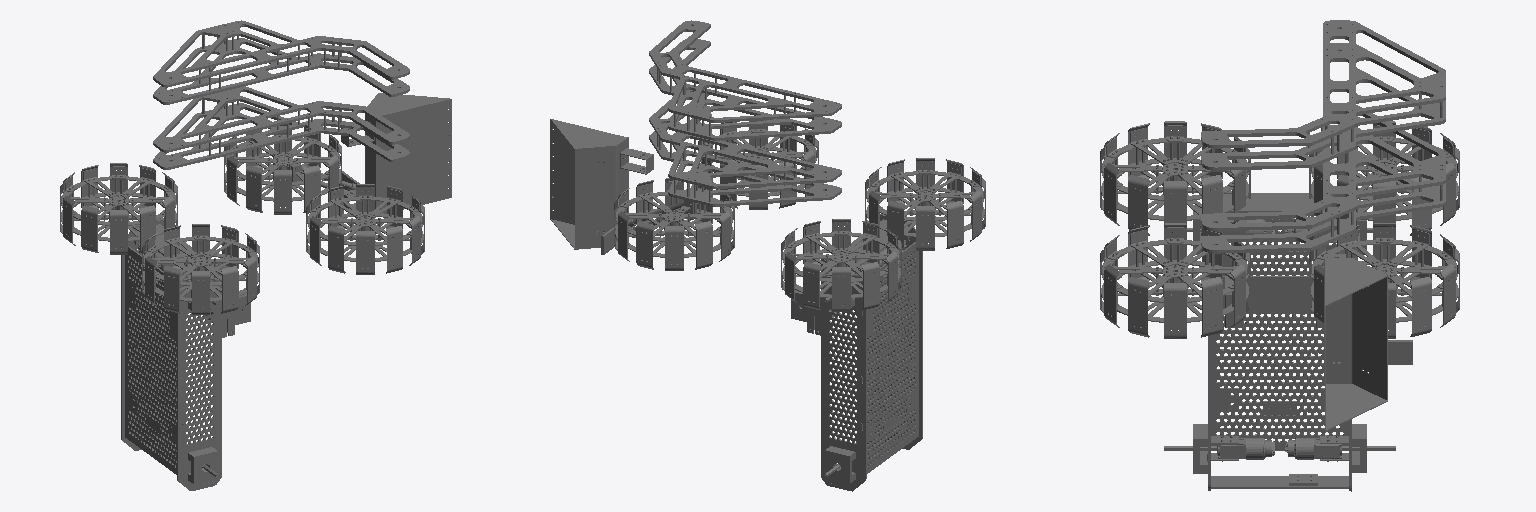
The robot description file, URDF, robot "sierra":
<?xml version="1.0"?>
<robot name="sierra" xmlns:xacro="http://www.ros.org/wiki/xacro">
<link name="base_footprint"/>

<joint name="base_footprint_joint" type="fixed">
  <parent link="base_footprint"/>
  <child link="base_link"/>
  <origin xyz="0 0 0.117037" rpy="0 0 0"/>
</joint>

  <link name="base_link">
  <inertial>
    <origin xyz="0 0 0" rpy="0 0 0"/>
    <mass value="6.66092"/>
    <inertia ixx="0.0559661" ixy="0" ixz="0" iyy="0.0621717" iyz="0" izz="0.104809"/>
  </inertial>
</link>

<link name="base_visual">
  <visual>
    <origin xyz="0 0 0" rpy="-1.5708 0 -1.5708"/>
    <geometry>
      <mesh filename="SierraFrame.STL" scale="1 1 1"/>
    </geometry>
    <material name="grey">
      <color rgba="0.5 0.5 0.5 1.0"/>
    </material>
  </visual>
  <collision>
    <origin xyz="0 0 0" rpy="-1.5708 0 -1.5708"/>
    <geometry>
      <mesh filename="SierraFrame.STL" scale="1 1 1"/>
    </geometry>
  </collision>
</link>

<joint name="base_visual_joint" type="fixed">
  <parent link="base_link"/>
  <child link="base_visual"/>
  <origin xyz="0 0 0" rpy="0 0 0"/>
</joint>

  <link name="Arm">
    <inertial>
      <origin xyz="0 0 0" rpy="0 0 0"/>
      <mass value="0.949651"/>
      <inertia ixx="0.00497965" ixy="0" ixz="0" iyy="0.0120414" iyz="0" izz="0.0123301"/>
    </inertial>
    <visual>
      <origin xyz="0 0 0" rpy="-1.5708 0 0"/>
      <geometry>
        <mesh filename="SierraArm.STL" scale="1 1 1"/>
      </geometry>
      <material name="grey">
        <color rgba="0.5 0.5 0.5 1.0"/>
      </material>
    </visual>
    <collision>
      <origin xyz="0 0 0" rpy="-1.5708 0 0"/>
      <geometry>
        <mesh filename="SierraArm.STL" scale="1 1 1"/>
      </geometry>
    </collision>
  </link>

  <joint name="Arm_Joint" type="revolute">
    <parent link="base_link"/>
    <child link="Arm"/>
    <origin xyz="0.180193 -0.033254 0.283140" rpy="0 0 0"/>
    <axis xyz="0 1 0"/>
    <limit lower="-0.7" upper="0.3" effort="120" velocity="1.5"/>
    <dynamics damping="2.0" friction="0.2"/>
  </joint>

  <link name="Bucket">
    <inertial>
      <origin xyz="0 0 0" rpy="0 0 0"/>
      <mass value="1.36392"/>
      <inertia ixx="0.0214664" ixy="0" ixz="0" iyy="0.0251992" iyz="0" izz="0.00731207"/>
    </inertial>
    <visual>
      <origin xyz="-0.02 0 -0.02" rpy="-1.5708 0 0"/>
      <geometry>
        <mesh filename="SierraBucket.STL" scale="1 1 1"/>
      </geometry>
      <material name="grey">
        <color rgba="0.5 0.5 0.5 1.0"/>
      </material>
    </visual>
    <collision>
      <origin xyz="0 0 0" rpy="-1.5708 0 0"/>
      <geometry>
        <box size="0.40 0.30 0.18"/>
      </geometry>
    </collision>
  </link>

  <joint name="Bucket_Joint" type="revolute">
    <parent link="Arm"/>
    <child link="Bucket"/>
    <origin xyz="0.741492 -0.00775 -0.320993" rpy="0 0 0"/>
    <axis xyz="0 1 0"/>
    <limit lower="-0.45" upper="1.25" effort="80" velocity="2.0"/>
    <dynamics damping="1.5" friction="0.15"/>
  </joint>

  <link name="FL_Wheel">
    <inertial>
      <mass value="1.5"/>
      <inertia ixx="0.01" ixy="0" ixz="0" iyy="0.01" iyz="0" izz="0.02"/>
    </inertial>
    <visual>
      <origin xyz="0 0 0" rpy="-1.5708 0 0"/>
      <geometry>
        <mesh filename="SierraWheel.STL" scale="1 1 1"/>
      </geometry>
      <material name="grey">
        <color rgba="0.5 0.5 0.5 1.0"/>
      </material>
    </visual>
    <collision>
      <geometry>
        <cylinder radius="0.210439" length="0.1"/>
      </geometry>
    </collision>
  </link>

  <joint name="FL_Wheel_Joint" type="continuous">
    <parent link="base_link"/>
    <child link="FL_Wheel"/>
    <origin xyz="0.703615 0.090463 0.089338" rpy="0 0 0"/>
    <axis xyz="0 0 -1"/>
    <limit effort="2000" velocity="20"/>
    <dynamics damping="1.0" friction="1.0"/>
  </joint>

  <link name="FR_Wheel">
    <inertial>
      <mass value="1.5"/>
      <inertia ixx="0.01" ixy="0" ixz="0" iyy="0.01" iyz="0" izz="0.02"/>
    </inertial>
    <visual>
      <origin xyz="0 0 0" rpy="1.5708 0 0"/>
      <geometry>
        <mesh filename="SierraWheel.STL" scale="1 1 1"/>
      </geometry>
      <material name="grey">
        <color rgba="0.5 0.5 0.5 1.0"/>
      </material>
    </visual>
    <collision>
      <geometry>
        <cylinder radius="0.210439" length="0.1"/>
      </geometry>
    </collision>
  </link>

  <joint name="FR_Wheel_Joint" type="continuous">
    <parent link="base_link"/>
    <child link="FR_Wheel"/>
    <origin xyz="0.703615 -0.48406 0.088900" rpy="0 0 0"/>
    <axis xyz="0 0 -1"/>
    <limit effort="2000" velocity="20"/>
    <dynamics damping="1.0" friction="1.0"/>
  </joint>

  <link name="BL_Wheel">
    <inertial>
      <mass value="1.5"/>
      <inertia ixx="0.01" ixy="0" ixz="0" iyy="0.01" iyz="0" izz="0.02"/>
    </inertial>
    <visual>
      <origin xyz="0 0 0" rpy="-1.5708 0 0"/>
      <geometry>
        <mesh filename="SierraWheel.STL" scale="1 1 1"/>
      </geometry>
      <material name="grey">
        <color rgba="0.5 0.5 0.5 1.0"/>
      </material>
    </visual>
    <collision>
      <geometry>
        <cylinder radius="0.210439" length="0.1"/>
      </geometry>
    </collision>
  </link>

  <joint name="BL_Wheel_Joint" type="continuous">
    <parent link="base_link"/>
    <child link="BL_Wheel"/>
    <origin xyz="0.043036 0.090463 0.089338" rpy="0 0 0"/>
    <axis xyz="0 0 -1"/>
    <limit effort="2000" velocity="20"/>
    <dynamics damping="1.0" friction="1.0"/>
  </joint>

  <link name="BR_Wheel">
    <inertial>
      <mass value="1.5"/>
      <inertia ixx="0.01" ixy="0" ixz="0" iyy="0.01" iyz="0" izz="0.02"/>
    </inertial>
    <visual>
      <origin xyz="0 0 0" rpy="1.5708 0 0"/>
      <geometry>
        <mesh filename="SierraWheel.STL" scale="1 1 1"/>
      </geometry>
      <material name="grey">
        <color rgba="0.5 0.5 0.5 1.0"/>
      </material>
    </visual>
    <collision>
      <geometry>
        <cylinder radius="0.210439" length="0.1"/>
      </geometry>
    </collision>
  </link>

  <joint name="BR_Wheel_Joint" type="continuous">
    <parent link="base_link"/>
    <child link="BR_Wheel"/>
    <origin xyz="0.042121 -0.48406 0.088900" rpy="0 0 0"/>
    <axis xyz="0 0 1"/>
    <limit effort="2000" velocity="20"/>
    <dynamics damping="1.0" friction="1.0"/>
  </joint>

  <link name="Camera_Mount">
    <inertial>
      <mass value=".15"/>
      <inertia ixx="0.01" ixy="0" ixz="0" iyy="0.01" iyz="0" izz="0.02"/>
    </inertial>
    <visual>
      <origin xyz="0 0 0" rpy="-1.5708 0 -1.5708"/>
      <geometry>
        <mesh filename="SierraCameraMount.STL" scale="1 1 1"/>
      </geometry>
      <material name="grey">
        <color rgba="0.5 0.5 0.5 1.0"/>
      </material>
    </visual>
  </link>

  <joint name="Camera_Mount_Joint" type="fixed">
    <parent link="base_link"/>
    <child link="Camera_Mount"/>
    <origin xyz="0.679000 0.008000 0.148000" rpy="0 0 0"/>
  </joint>

  <link name="zed2i_base_link">
    <inertial>
      <mass value="0.166"/>
      <inertia ixx="0.0001" ixy="0" ixz="0" iyy="0.0001" iyz="0" izz="0.0001"/>
    </inertial>
  </link>

  <link name="zed2i_visual">
    <visual>
      <origin xyz="0 0 0" rpy="0 0 0"/>
      <geometry>
        <mesh filename="../../resources/meshes/ZED2i.STL" scale="0.001 0.001 0.001"/>
      </geometry>
      <material name="zed_grey">
        <color rgba="0.4 0.4 0.4 1.0"/>
      </material>
    </visual>
  </link>

  <joint name="base_to_zed2i" type="fixed">
    <parent link="base_link"/>
    <child link="zed2i_base_link"/>
    <origin xyz="0.822000 0.083000 0.508000" rpy="0 0 0"/>
  </joint>

  <joint name="zed2i_visual_joint" type="fixed">
    <parent link="zed2i_base_link"/>
    <child link="zed2i_visual"/>
    <origin xyz="0 0 0" rpy="-1.36136 0 1.5708"/>
  </joint>

  <link name="d455i_base_link"/>
  <joint name="base_to_d455i" type="fixed">
    <parent link="base_link"/>
    <child link="d455i_base_link"/>
    <origin xyz="0 0 0" rpy="0 0 0"/>
  </joint>

  <link name="lidar_link"/>
  <joint name="d455i_to_lidar" type="fixed">
    <parent link="d455i_base_link"/>
    <child link="lidar_link"/>
    <origin xyz="0 0 0" rpy="0 0 0"/>
  </joint>

  <link name="zed2i_left_optical_frame"/>
  <joint name="zed2i_optical_joint" type="fixed">
    <parent link="zed2i_base_link"/>
    <child link="zed2i_left_optical_frame"/>
    <origin xyz="0 0 0" rpy="0 0 0"/>
  </joint>


  <ros2_control name="GazeboSystem" type="system">
    <hardware>
      <plugin>gazebo_ros2_control/GazeboSystem</plugin>
    </hardware>
  </ros2_control>

  <gazebo>
    <plugin filename="libgazebo_ros2_control.so" name="gazebo_ros2_control">
      <parameters>REPLACE_WITH_CONTROLLER_YAML</parameters>
    </plugin>
    <plugin name="p3d_base_controller" filename="libgazebo_ros_p3d.so">
      <body_name>base_link</body_name>
      <frame_name>world</frame_name>
    </plugin>
  </gazebo>

</robot>

--- Facts derived from the render (not from the file) ---
The picture shows the robot from 3 angles, left to right: view 1: azimuth 30°, elevation 25°; view 2: azimuth 150°, elevation 25°; view 3: azimuth 270°, elevation 25°; orthographic projection.
Model sierra with 15 links and 14 joints (2 revolute, 4 continuous, 8 fixed), rooted at base_footprint, posed every joint at zero.
Visible links, largest first — view 1: base_visual, Arm, FR_Wheel, Bucket, BR_Wheel, BL_Wheel, FL_Wheel; view 2: base_visual, Arm, Bucket, BL_Wheel, BR_Wheel, FL_Wheel, FR_Wheel, Camera_Mount; view 3: base_visual, Arm, FR_Wheel, BR_Wheel, Bucket, FL_Wheel, BL_Wheel, Camera_Mount.
Link boxes in pixels (x1,y1,x2,y2): base_visual: [121, 219, 250, 490]; Arm: [153, 20, 409, 169]; FR_Wheel: [306, 184, 424, 274]; Bucket: [341, 93, 451, 213]; BR_Wheel: [142, 224, 259, 314]; BL_Wheel: [60, 163, 177, 254]; FL_Wheel: [224, 124, 341, 214]; base_visual: [791, 214, 922, 491]; Arm: [649, 20, 841, 206]; Bucket: [550, 119, 653, 249]; BL_Wheel: [781, 219, 901, 311]; BR_Wheel: [865, 158, 985, 250]; FL_Wheel: [614, 178, 734, 270]; FR_Wheel: [698, 120, 818, 209]; Camera_Mount: [601, 200, 696, 254]; base_visual: [1164, 193, 1395, 491]; Arm: [1201, 20, 1445, 253]; FR_Wheel: [1100, 223, 1250, 338]; BR_Wheel: [1100, 121, 1250, 235]; Bucket: [1324, 254, 1387, 431]; FL_Wheel: [1309, 223, 1459, 338]; BL_Wheel: [1309, 121, 1459, 235]; Camera_Mount: [1352, 258, 1412, 364].
Bounding box of the posed robot: 1.45 × 0.9873 × 1.42 m (x, y, z).
8 mesh visuals loaded from 6 distinct referenced files (5 binary STL); not drawn: 1 (reference not matched to a file when rendering).
